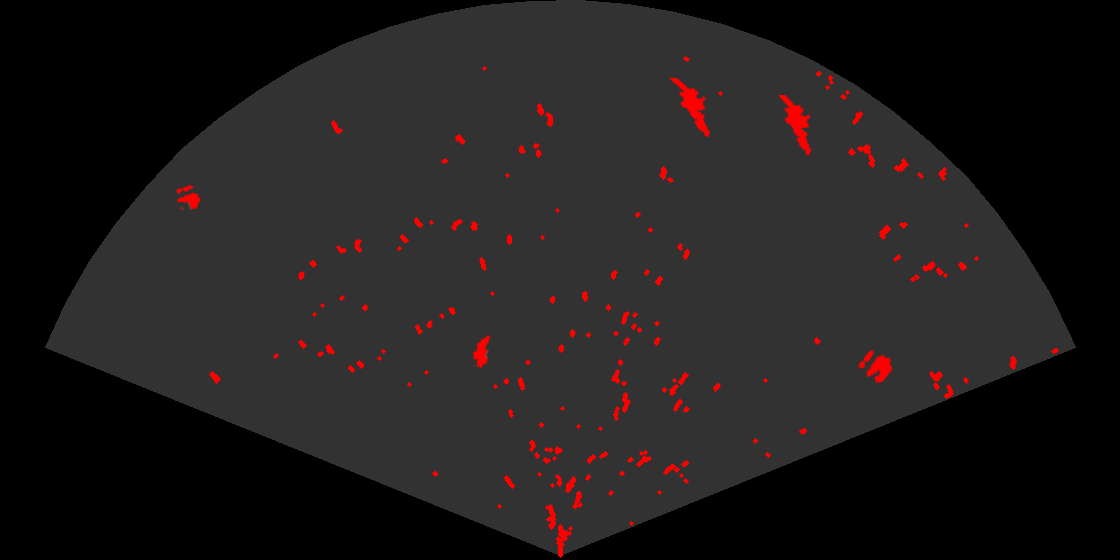AUV: (471, 333, 492, 370)
ball: (857, 348, 894, 385), (174, 184, 202, 212)
frogman: (668, 78, 712, 139), (777, 95, 813, 157)
